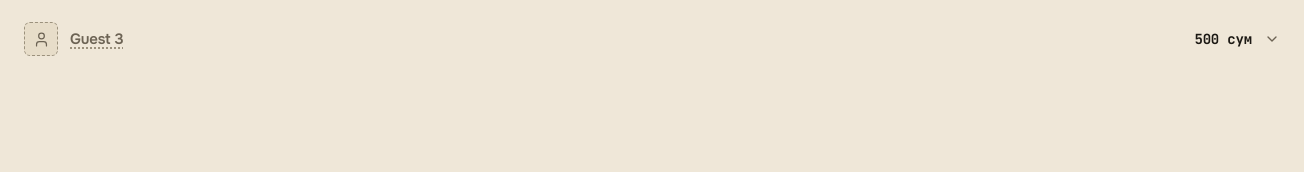
Test: ParticipantCard — the collapsed row › opens from anywhere on the row but the renamable name
What coordinates should you click on to do the following:
click the button named "Guest 3"
I would click on:
 (652, 39)
Its box is top-left (12, 12), bottom-right (1292, 66).
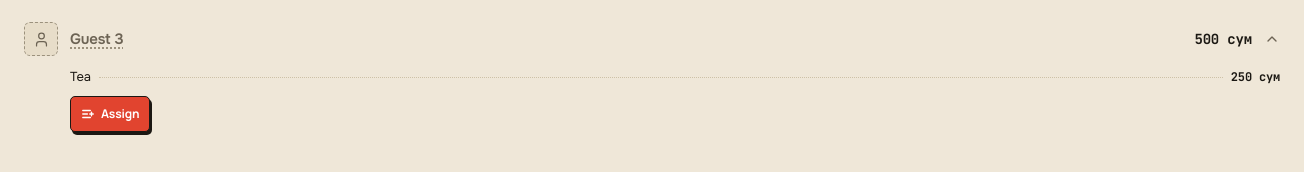
Expected: the button with aria-label "Rename: Guest 3" is shown, top-left (70, 24), bottom-right (123, 54)
Now the button "Assign" is shown, box top-left (70, 96), bottom-right (150, 132)
